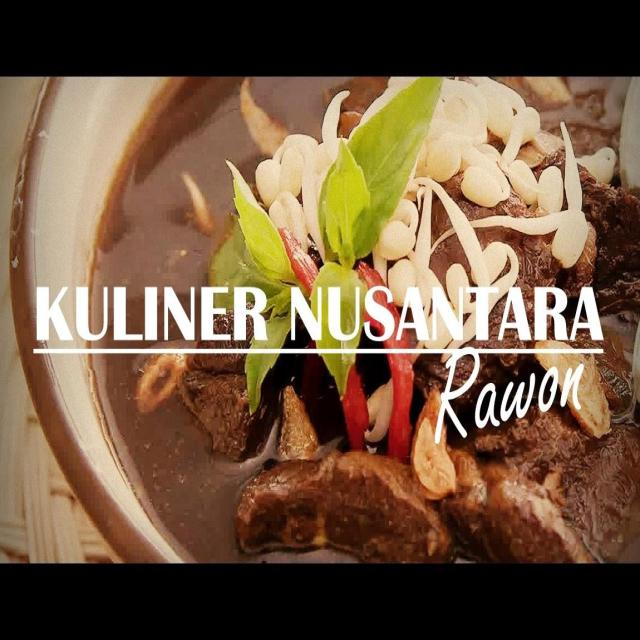Rawon: (92, 68, 634, 560)
